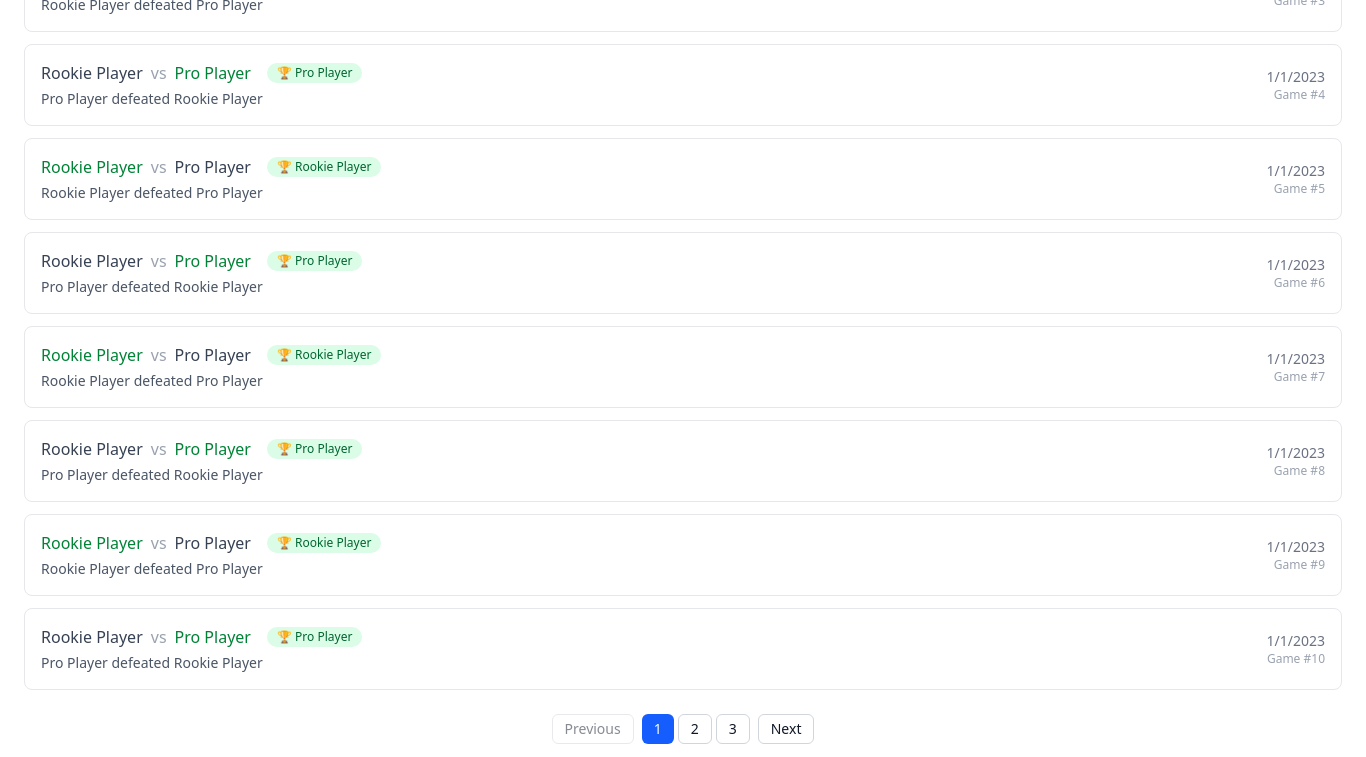
Scenario: RecentGamesList Integration Tests › displays pagination when multiple pages exist
The image size is (1366, 757).
(page scrolled)
Expected: the button "Previous" is shown, [552,714,634,744]
Expected: the button "1" is shown, [642,714,674,744]
// Test navigation to next page
Step 1. Click the button "Next" → (786, 729), box [758,714,814,744]
(page scrolled)
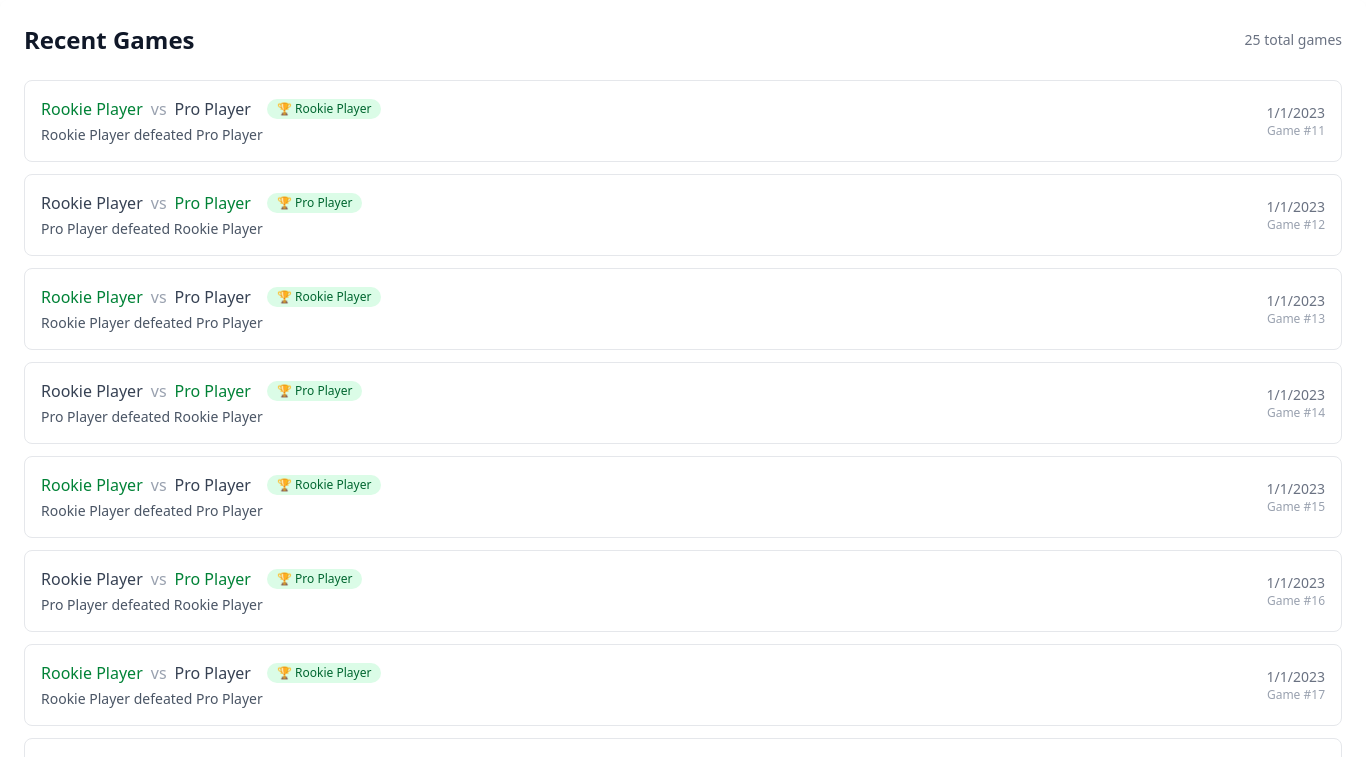
Result: the text "Game #11" is shown at [1266,123,1325,139]
